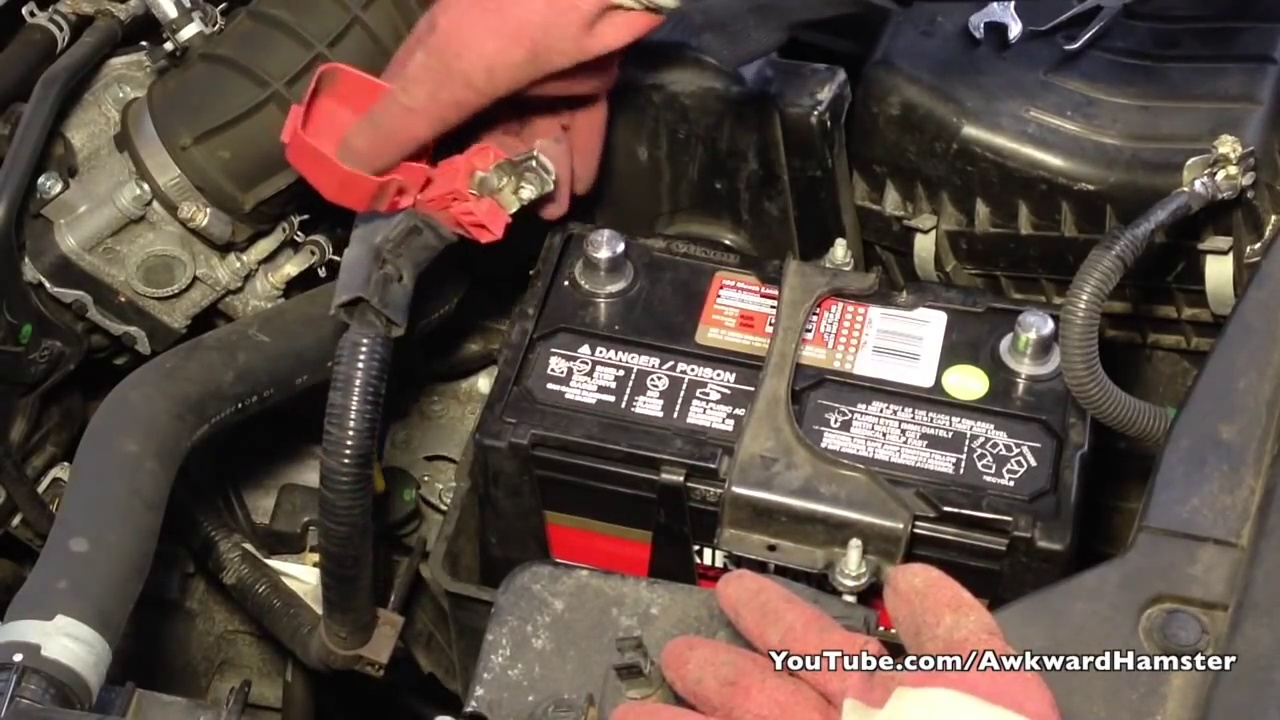battery: (481, 216, 1068, 543)
neg_disconnected: (966, 283, 1081, 375)
pos_disconnected: (296, 70, 660, 311)
pos_touched: (362, 32, 680, 316)
